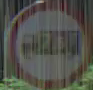Heavy Vehicles: (9, 11, 81, 72)
